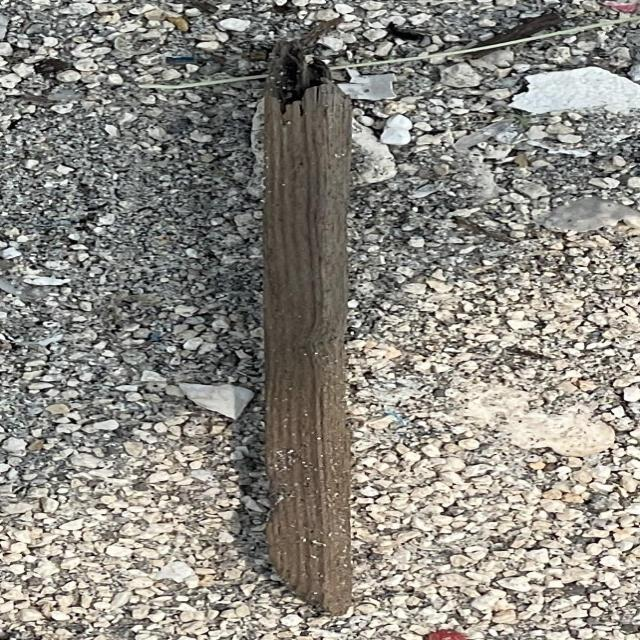wood_waste: (265, 43, 357, 623)
